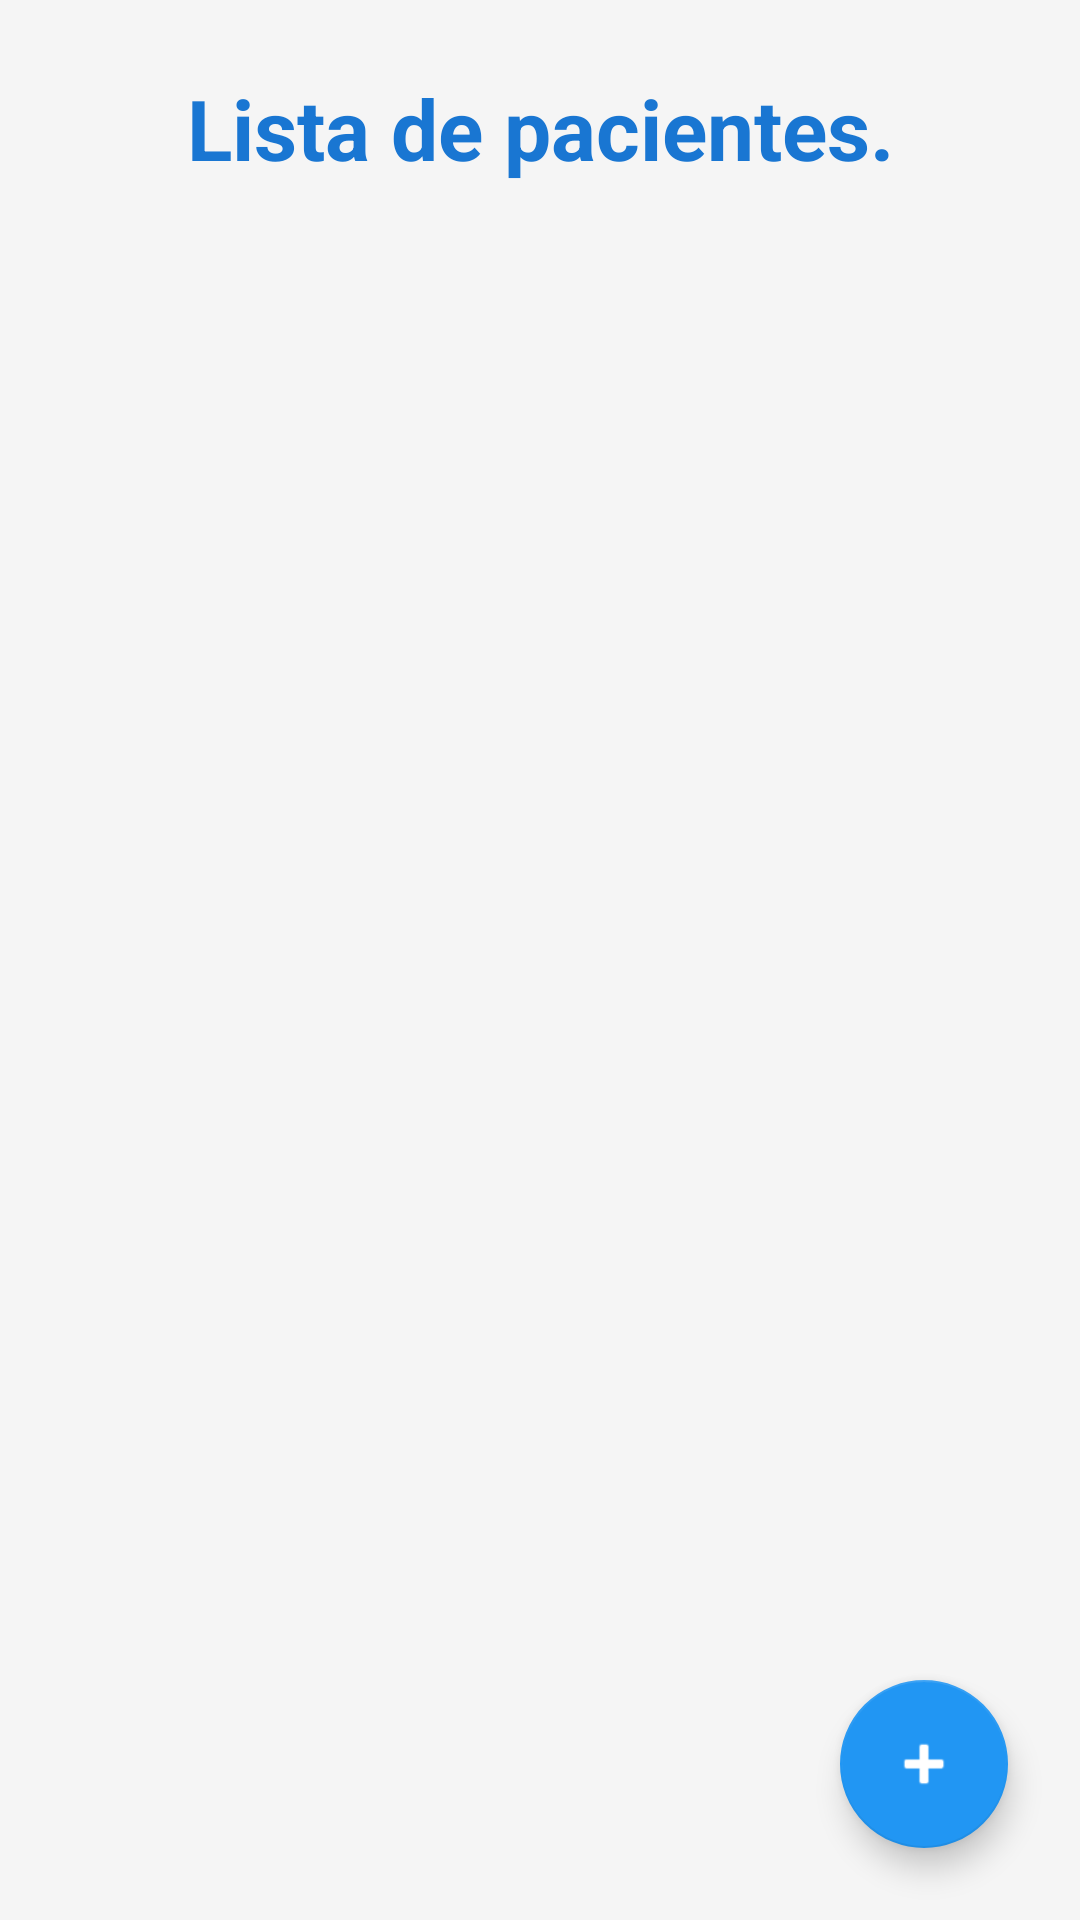

Icon click points for this 1080 × 1920 phone screenshot, format [x,y]:
Agregar nuevo paciente: [924,1764]
